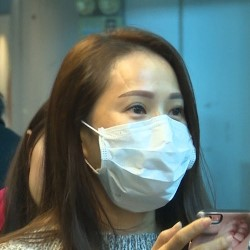mask: (77, 108, 199, 216)
